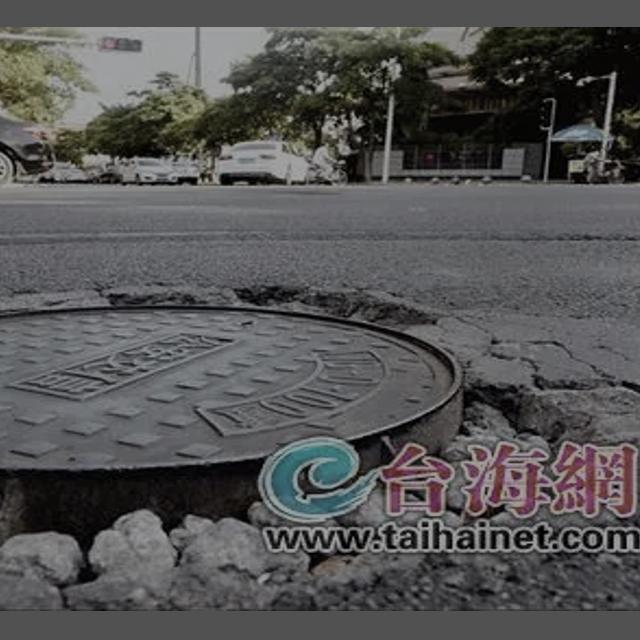circle: (0, 282, 640, 578)
